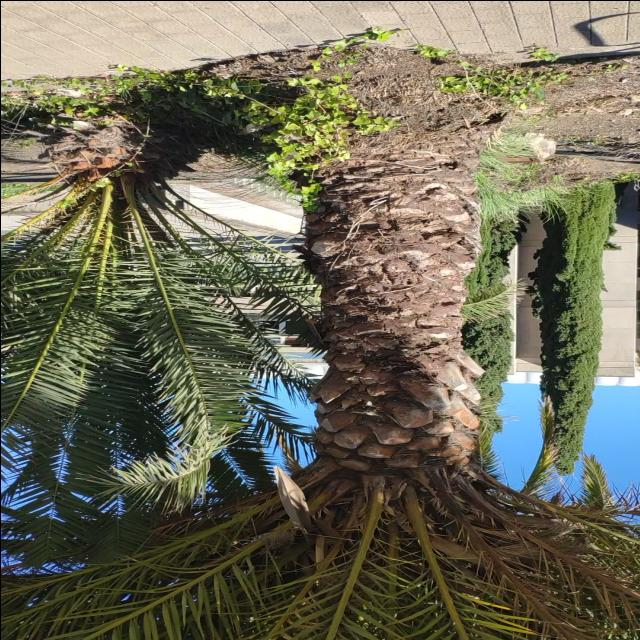Palm-Trees: (116, 71, 640, 640), (0, 102, 306, 500)
